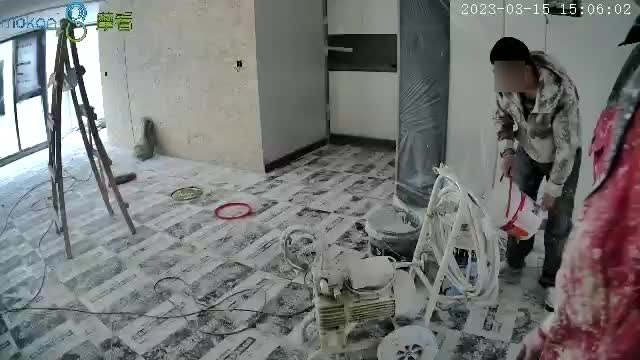people: (487, 38, 582, 313)
window: (1, 22, 105, 162)
